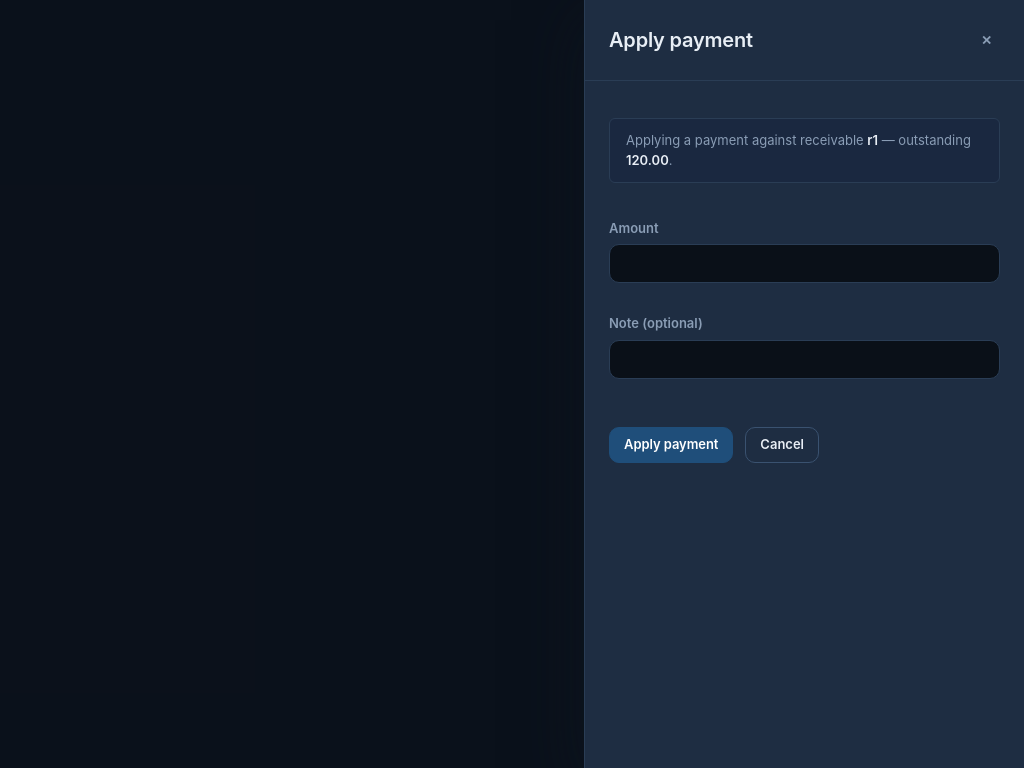
it: ApplyPayment › 403 -> permission banner
This screenshot has width=1024, height=768.
In the field labelled "Amount": (804, 264) [609,244,1000,283], type "50.00"
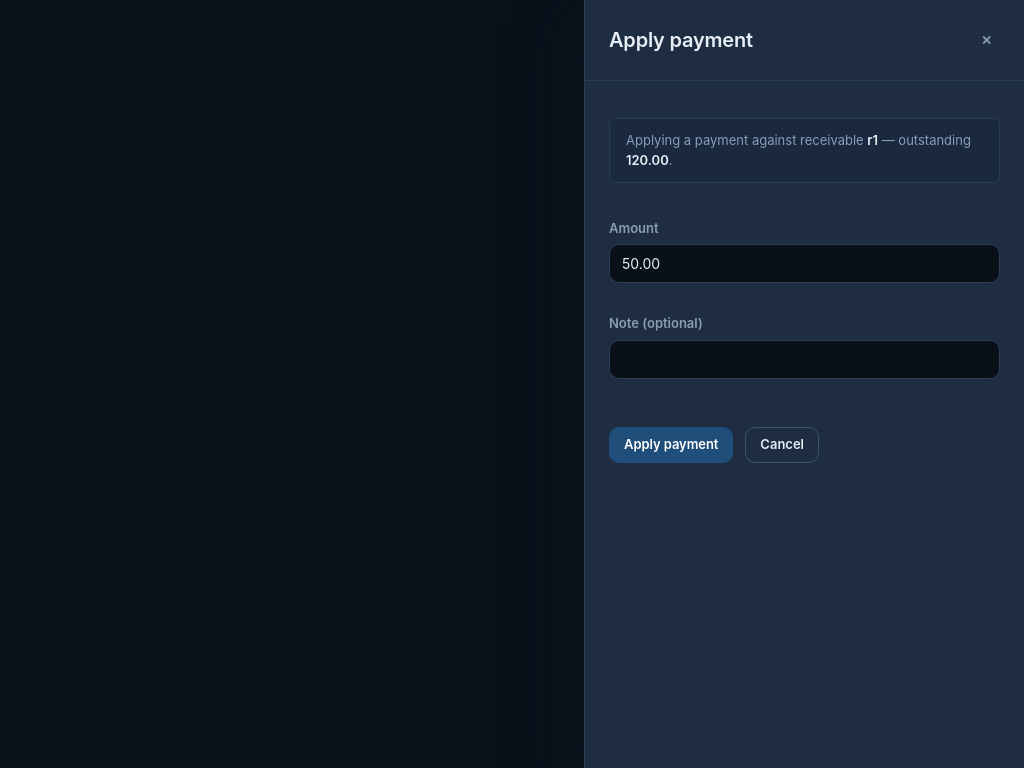
Click the button "Apply payment": click(671, 444) [609,426,733,462]
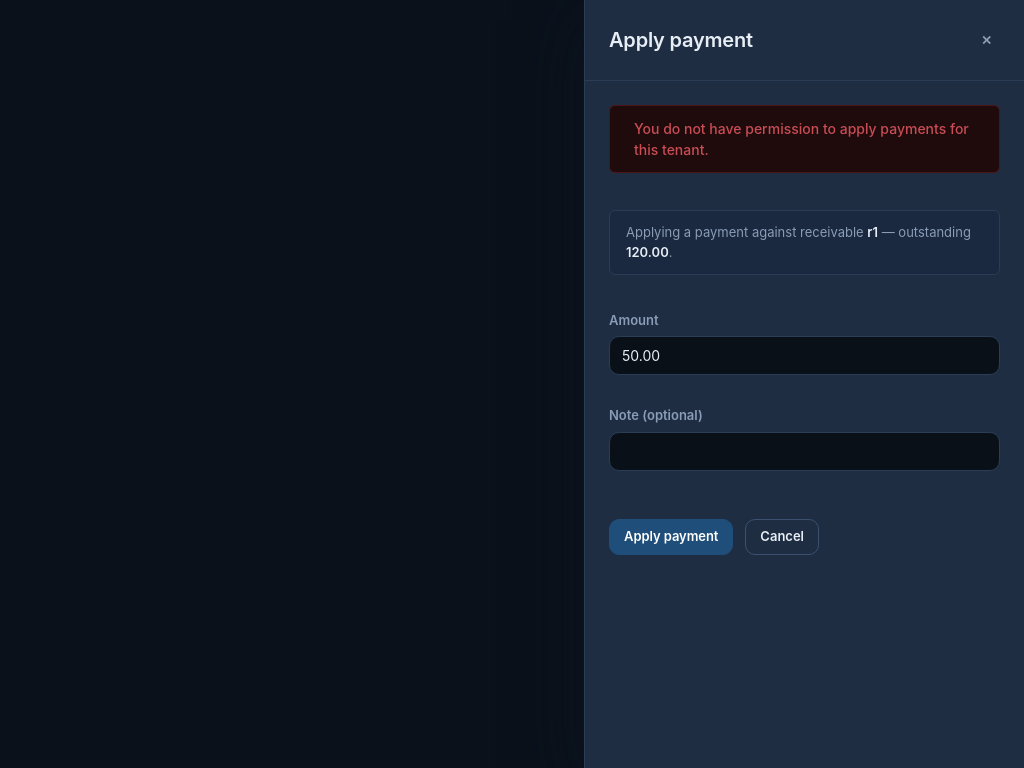
Now the text "permission" is shown, box [634,120,969,158]
